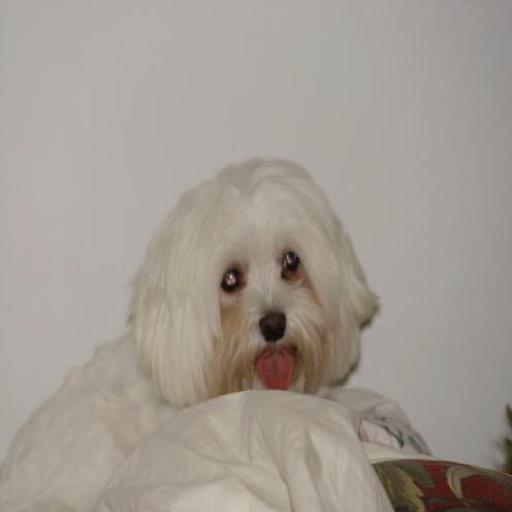dog_face: (140, 160, 371, 398)
